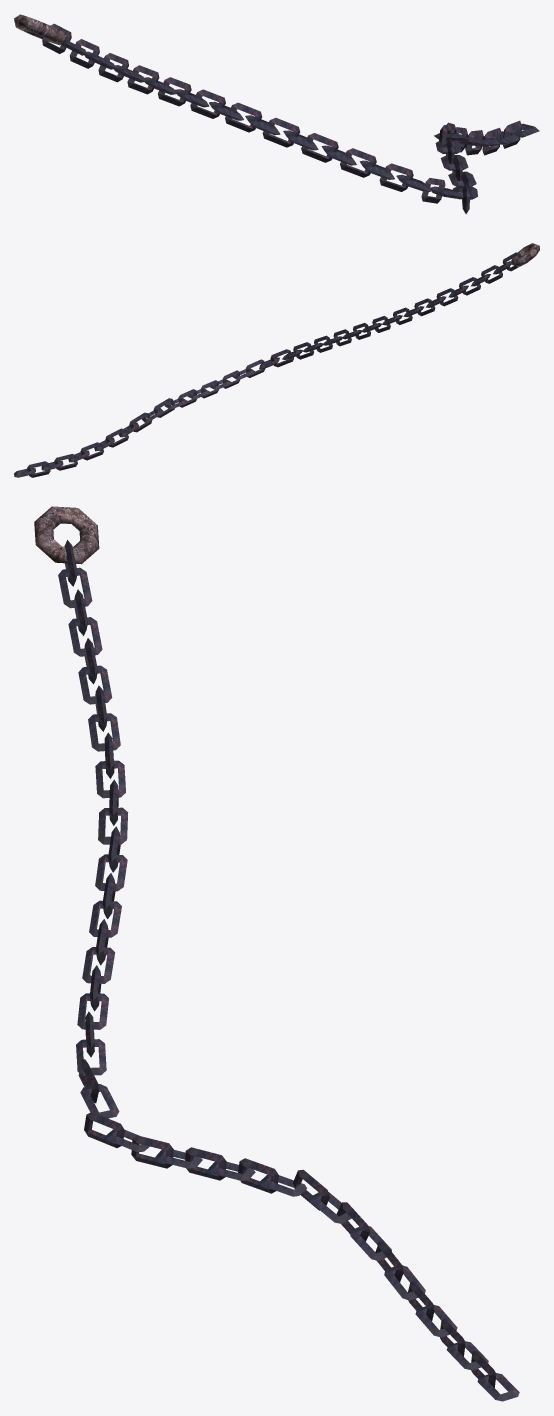
File: flame_chain_007.fbx
3 views of the same model, one above another, from view 1: azimuth 30°, elevation 25°; view 2: azimuth 150°, elevation 25°; view 3: azimuth 270°, elevation 25° (orthographic). The views are drawn at different scales.
Parts seen in each view (by area): view 1: flame_chain_007; view 2: flame_chain_007; view 3: flame_chain_007.
Boxes of the visible parts, box(x1,y1,x2,y2) form: flame_chain_007: box(14, 14, 539, 213); flame_chain_007: box(14, 243, 539, 477); flame_chain_007: box(34, 506, 519, 1401).
Bounding box in the file's own units: 24.18 × 13.93 × 12.25.
